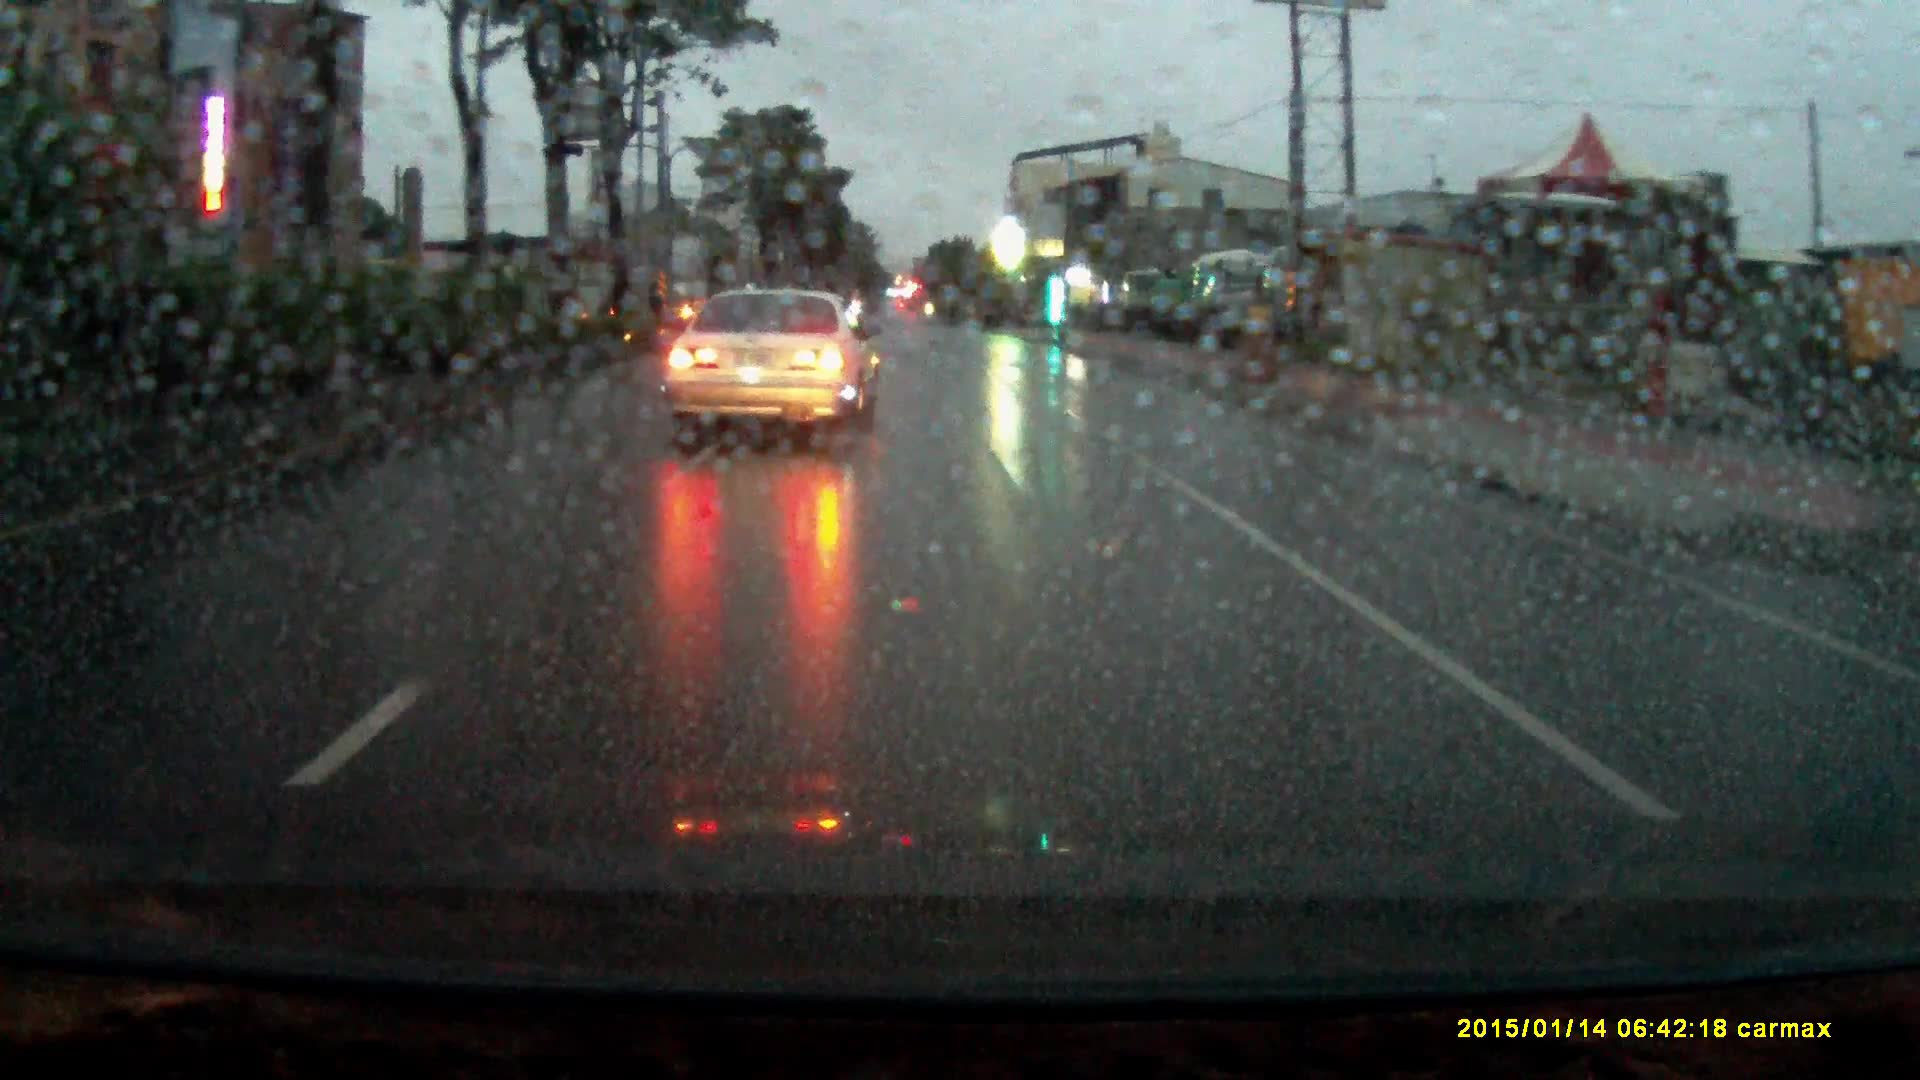vehicle: (662, 287, 887, 450), (1187, 248, 1273, 343), (1117, 264, 1170, 331)
